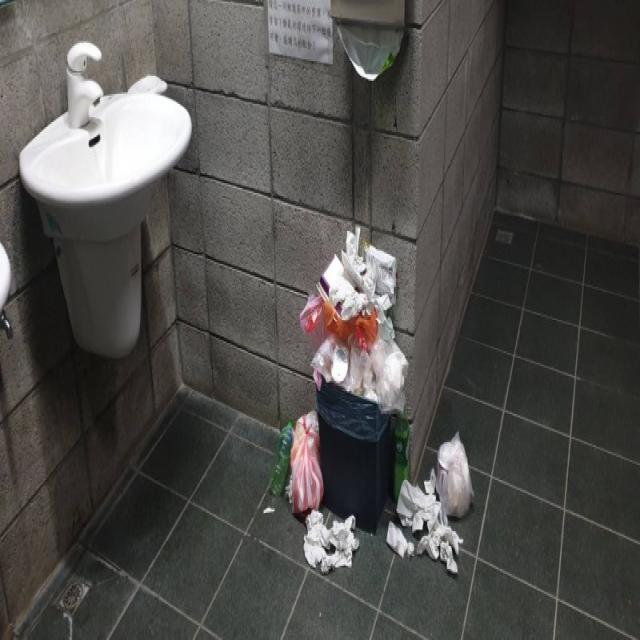garbage: (412, 426, 474, 579), (301, 510, 363, 580), (266, 411, 292, 505)
overflow_bin: (292, 221, 405, 582)
